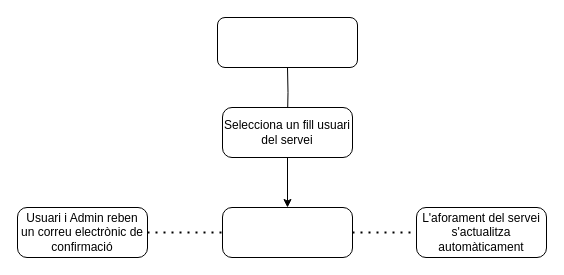
Some shapes in this 564 by 275 pixel diagram are drawn without their labels. Here are the shapes that lost their labels. From the top down, the centre of each, then its label:
At (x=287, y=42): "Selecciona un servei (p.e. extraescolars)".
At (x=287, y=232): "Confirma el servei".
